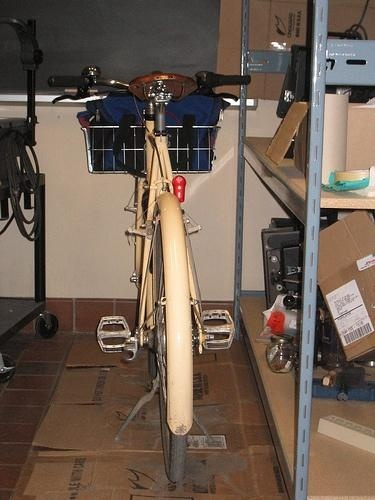bicycle: (49, 65, 252, 485)
